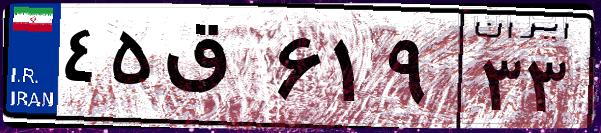1: (330, 28, 385, 110)
3: (475, 38, 525, 113), (525, 38, 570, 115)
4: (57, 26, 110, 100)
5: (110, 28, 158, 98)
6: (270, 28, 330, 110)
9: (385, 28, 445, 110)
ق: (158, 20, 270, 120)
